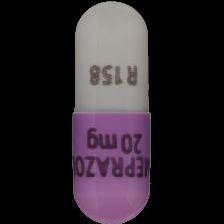33261-087: (0, 0, 224, 224)
